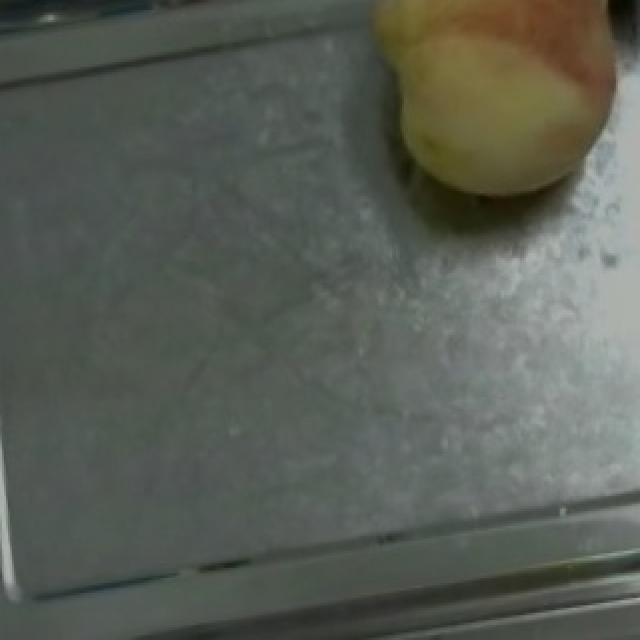Fruit: (332, 0, 640, 226)
